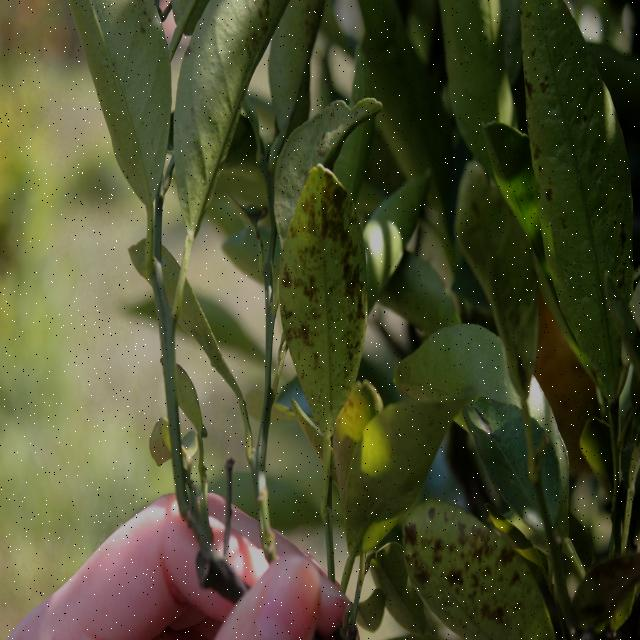melanose: (519, 8, 640, 360), (275, 168, 368, 441), (408, 488, 556, 640), (176, 0, 285, 92), (80, 0, 160, 67), (283, 0, 331, 63)
